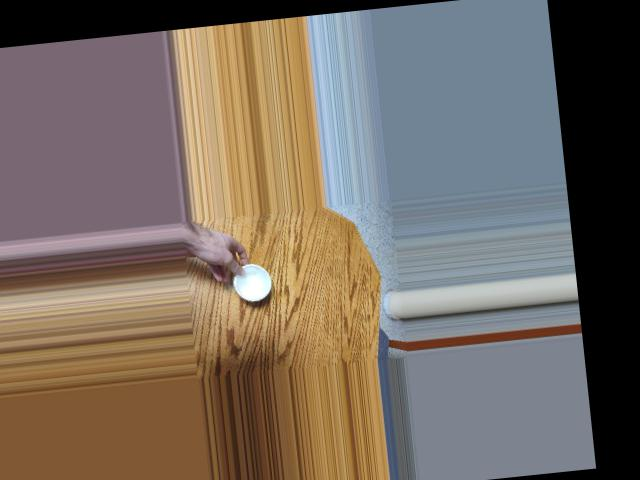cotage: (228, 258, 272, 304)
